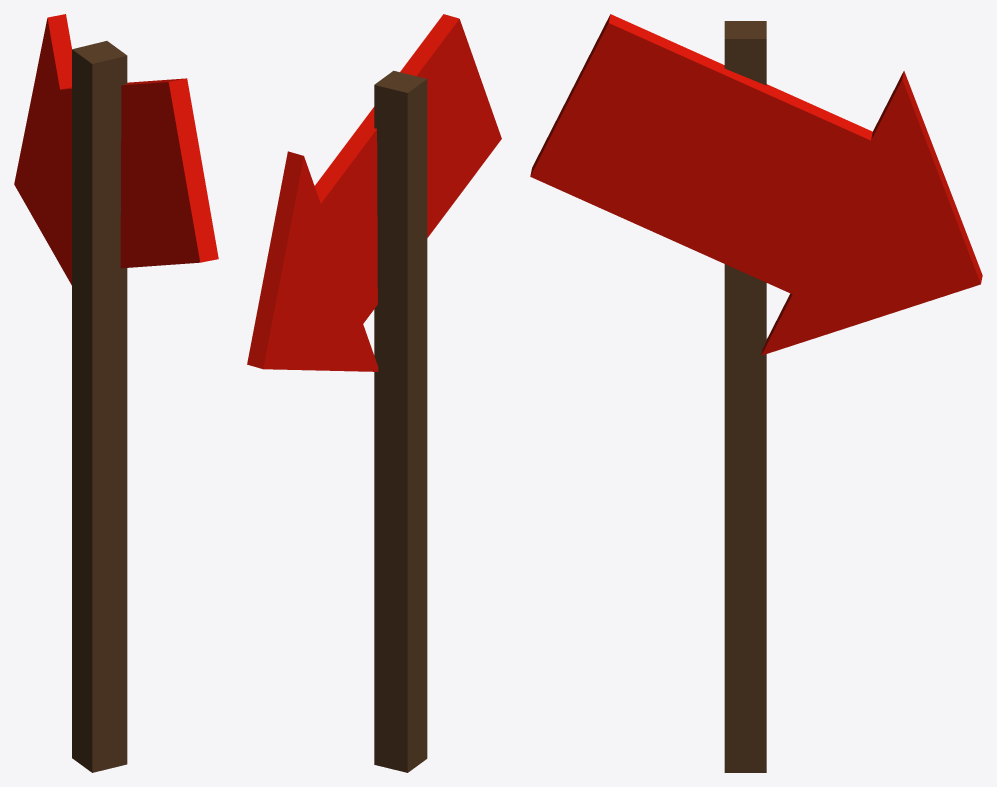
The model's file is arrow.glb.
3 renders of one model, left to right at view 1: azimuth 30°, elevation 25°; view 2: azimuth 150°, elevation 25°; view 3: azimuth 270°, elevation 25°, orthographic. The views are drawn at different scales.
Visible parts, largest first — view 1: pole, arrow; view 2: pole, arrow; view 3: arrow, pole.
Boxes of the visible parts, box(x1,y1,x2,y2) form: pole: box(72, 41, 127, 772); arrow: box(14, 14, 218, 285); pole: box(374, 70, 427, 772); arrow: box(247, 14, 501, 371); arrow: box(530, 14, 982, 355); pole: box(724, 21, 766, 772).
Size of the model in its own units: 0.1828 by 1.98 by 1.08.
